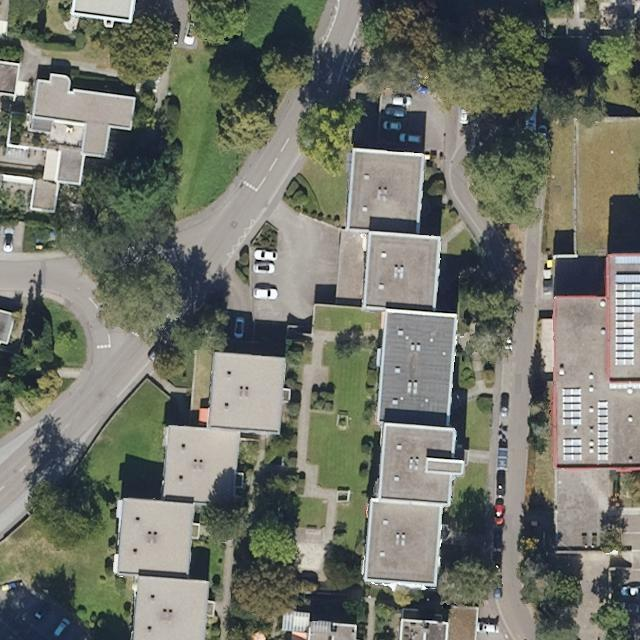PV: (612, 255, 638, 368), (560, 385, 586, 464), (594, 400, 609, 465)
